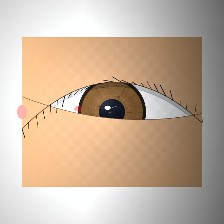hemorrhage_spot: (70, 85, 142, 142)
